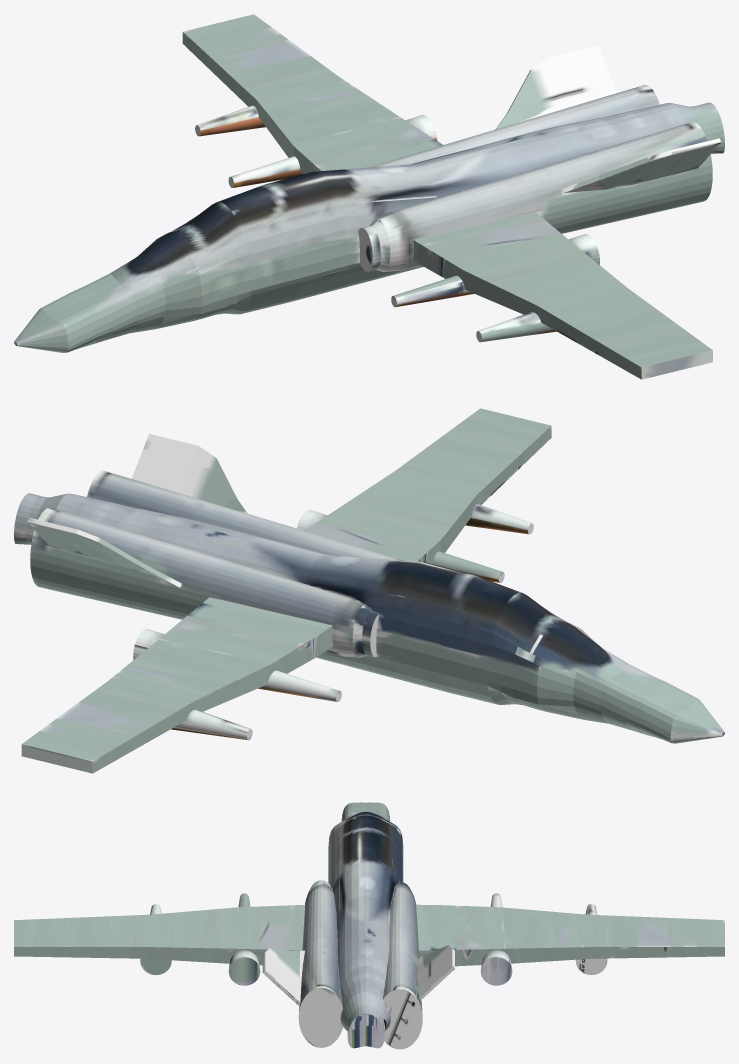
The model's file is jet_final.gltf.
3 views of the same model, one above another, from view 1: azimuth 30°, elevation 25°; view 2: azimuth 150°, elevation 25°; view 3: azimuth 270°, elevation 25° (orthographic). The views are drawn at different scales.
Parts seen in each view (by area): view 1: Jet; view 2: Jet; view 3: Jet.
Part boxes in pixels (x1=…): Jet: x1=14, y1=14, x2=724, y2=379; Jet: x1=14, y1=408, x2=724, y2=773; Jet: x1=14, y1=802, x2=724, y2=1049.
Bounding box in the file's own units: 4.06 × 0.6812 × 4.61.
1 material, 1 textured.
